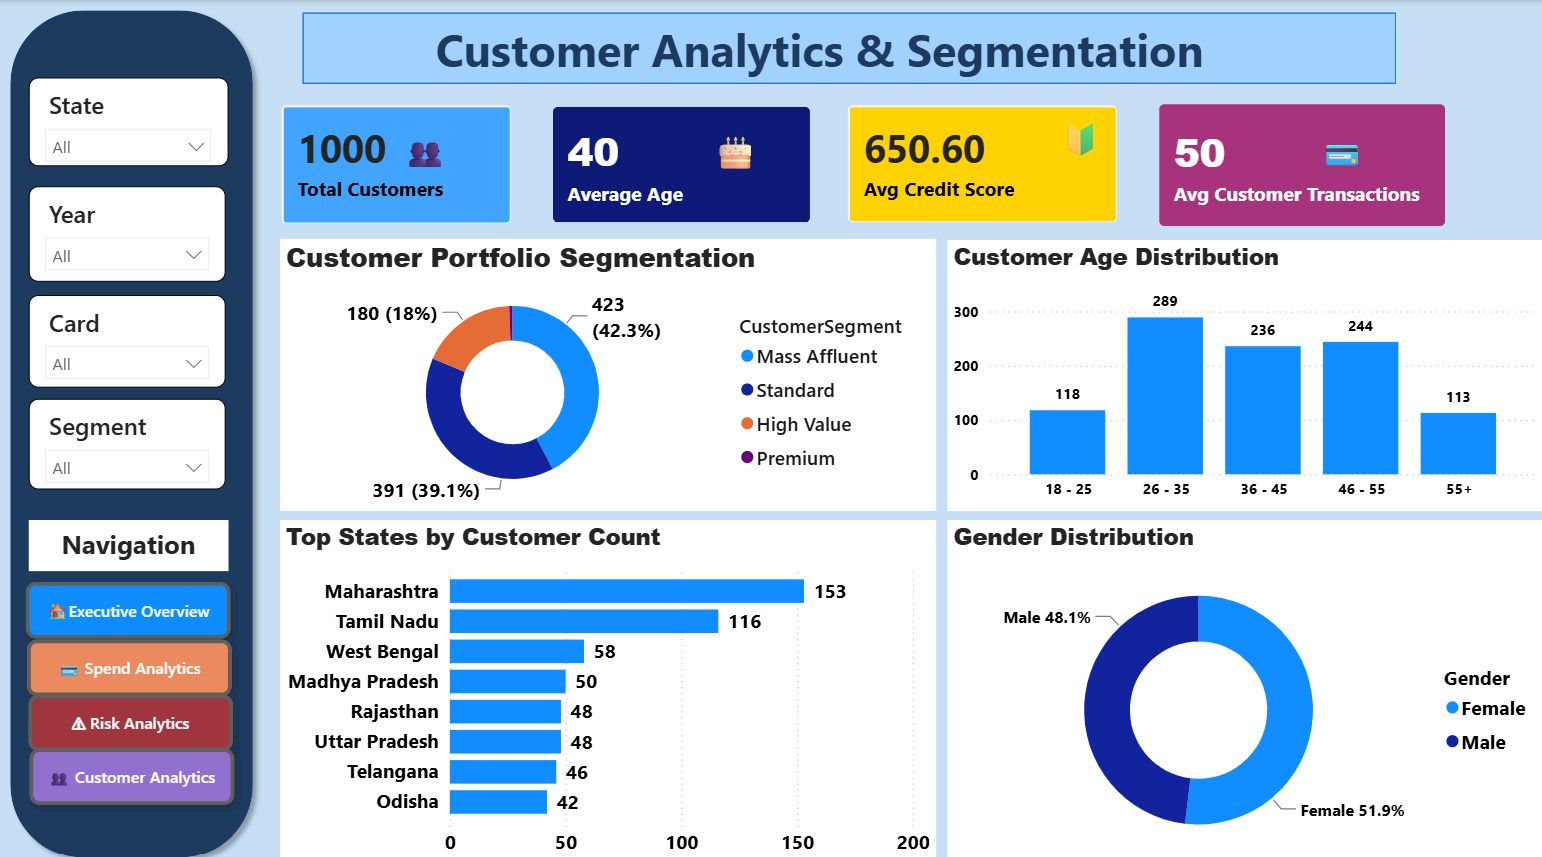

The page's visual inventory and layout, read from the dashboard file:
{"tool":"powerbi","page":{"name":" Customer Analytics","canvas":[1280,720],"ordinal":3},"visuals":[{"type":"shape","box":[251.2,10,906.7,59.2],"z":0},{"type":"textbox","box":[304.8,10,791.7,67],"z":1000},{"type":"cardVisual","fields":{"Data":["Calculation Table.Avg Age"]},"box":[441.1,71.5,247.9,130.6],"z":2000,"group":"g3"},{"type":"donutChart","title":"Customer Portfolio Segmentation","fields":{"Category":["DimCustomer.CustomerSegment"],"Y":["Calculation Table.Total Customers"]},"box":[232.3,197.6,543.8,225.6],"z":2000},{"type":"cardVisual","fields":{"Data":["Calculation Table.Average Credit Score"]},"box":[685.6,70.3,257.9,131.8],"z":3000,"group":"g1"},{"type":"columnChart","title":"Customer Age Distribution","fields":{"Y":["Calculation Table.Total Customers"],"Category":["DimCustomer.Age Group"]},"box":[785,198.8,494.7,224.4],"z":3000},{"type":"cardVisual","fields":{"Data":["Calculation Table.Average Transaction Per Customer"]},"box":[943.6,69.2,271.3,135.1],"z":4000,"group":"g4"},{"type":"barChart","title":"Top States by Customer Count","fields":{"Category":["DimCustomer.State"],"Y":["Calculation Table.Total Customers"]},"box":[232.3,431,543.8,289.2],"z":4000},{"type":"shape","box":[0,0,218.2,720.2],"z":5000},{"type":"slicer","fields":{"Values":["DimDate.Date.Variation.Date Hierarchy.Year"]},"box":[23.4,154.1,163,79.3],"z":6000},{"type":"slicer","fields":{"Values":["DimCard.CardCategory"]},"box":[23.4,244.5,163,77],"z":7000},{"type":"slicer","fields":{"Values":["DimCustomer.State"]},"box":[23.4,64.8,165.3,73.7],"z":8000},{"type":"slicer","fields":{"Values":["DimCustomer.CustomerSegment"]},"box":[23.4,330.5,163,74.8],"z":9000},{"type":"textbox","box":[23.4,431,165.3,42.4],"z":10000},{"type":"actionButton","box":[12.1,473.5,187.6,64.8],"z":11000},{"type":"actionButton","box":[13.4,521.5,187.6,64.8],"z":12000},{"type":"actionButton","box":[14.5,567.2,187.6,64.8],"z":13000},{"type":"actionButton","box":[15.6,611.9,187.6,64.8],"z":14000},{"type":"cardVisual","fields":{"Data":["Calculation Table.Total Customers"]},"box":[216.9,70.3,224.4,132.9],"z":15000,"group":"g2"},{"type":"group","id":"g1","title":"Group 1","box":[685.6,70.3,257.9,131.8],"z":15000},{"type":"group","id":"g2","title":"Group 1","box":[216.9,70.3,224.4,132.9],"z":16000},{"type":"textbox","box":[330,100.5,53.7,45.8],"z":16000,"group":"g2"},{"type":"group","id":"g3","title":"Group 2","box":[441.1,71.5,247.9,130.6],"z":17000},{"type":"group","id":"g4","title":"Group 3","box":[943.6,69.2,271.3,135.1],"z":18000},{"type":"donutChart","title":"Gender Distribution","fields":{"Category":["DimCustomer.Gender"],"Y":["CountNonNull(DimCustomer.Gender)"]},"box":[785,431,494.7,289.2],"z":19000},{"type":"textbox","box":[871.6,91.4,61.1,51],"z":20001,"group":"g1"},{"type":"textbox","box":[586.4,102.9,57.5,50.2],"z":20004,"group":"g3"},{"type":"textbox","box":[1088.7,99.3,74.1,45.8],"z":20006,"group":"g4"}]}

Visuals, with their boxes in screenshot pixels (x1, y1, x2, y2), scaled from the page's 1280x720 canvas onto the 1542x857 screenshot:
shape: x1=303, y1=12, x2=1395, y2=82
textbox: x1=367, y1=12, x2=1321, y2=92
cardVisual - Calculation Table.Avg Age: x1=531, y1=85, x2=830, y2=241
"Customer Portfolio Segmentation" donutChart: x1=280, y1=235, x2=935, y2=504
cardVisual - Calculation Table.Average Credit Score: x1=826, y1=84, x2=1137, y2=241
"Customer Age Distribution" columnChart: x1=946, y1=237, x2=1541, y2=504
cardVisual - Calculation Table.Average Transaction Per Customer: x1=1137, y1=82, x2=1464, y2=243
"Top States by Customer Count" barChart: x1=280, y1=513, x2=935, y2=856
shape: x1=0, y1=0, x2=263, y2=856
slicer - DimDate.Date.Variation.Date Hierarchy.Year: x1=28, y1=183, x2=225, y2=278
slicer - DimCard.CardCategory: x1=28, y1=291, x2=225, y2=383
slicer - DimCustomer.State: x1=28, y1=77, x2=227, y2=165
slicer - DimCustomer.CustomerSegment: x1=28, y1=393, x2=225, y2=482
textbox: x1=28, y1=513, x2=227, y2=563
actionButton: x1=15, y1=564, x2=241, y2=641
actionButton: x1=16, y1=621, x2=242, y2=698
actionButton: x1=17, y1=675, x2=243, y2=752
actionButton: x1=19, y1=728, x2=245, y2=805
cardVisual - Calculation Table.Total Customers: x1=261, y1=84, x2=532, y2=242
"Group 1" group: x1=826, y1=84, x2=1137, y2=241
"Group 1" group: x1=261, y1=84, x2=532, y2=242
textbox: x1=398, y1=120, x2=462, y2=174
"Group 2" group: x1=531, y1=85, x2=830, y2=241
"Group 3" group: x1=1137, y1=82, x2=1464, y2=243
"Gender Distribution" donutChart: x1=946, y1=513, x2=1541, y2=856
textbox: x1=1050, y1=109, x2=1124, y2=169
textbox: x1=706, y1=122, x2=776, y2=182
textbox: x1=1312, y1=118, x2=1401, y2=173
